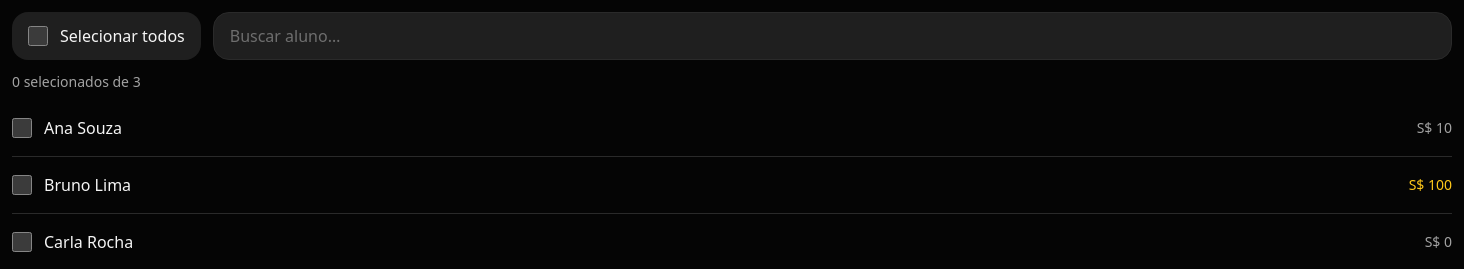
<SeletorAlunos> › filtra por nome sem perder a seleção
Click the checkbox labelled "Ana Souza S$ 10": x=22, y=128 left=12, top=118, right=32, bottom=138
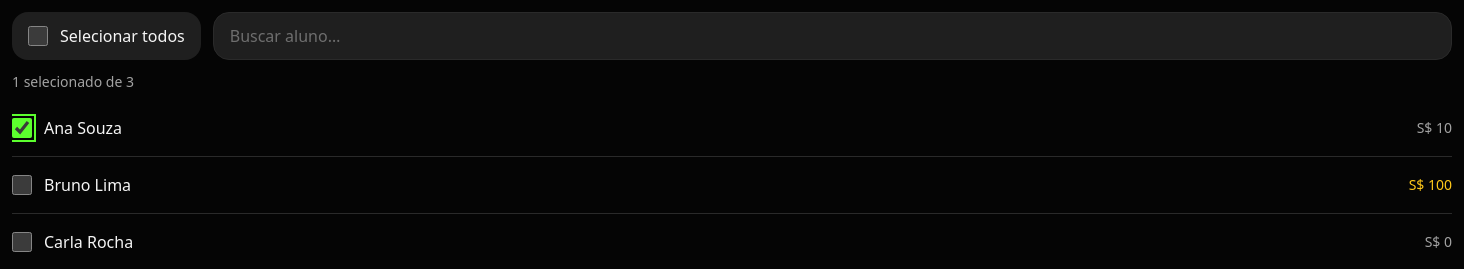
In the search field: x=832, y=36 left=213, top=12, right=1452, bottom=60, type "carla"
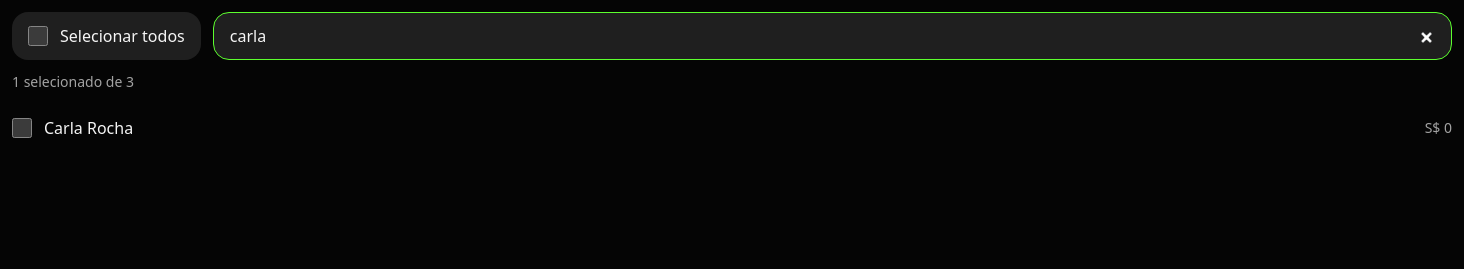
Expected: the checkbox labelled "Carla Rocha S$ 0" is shown, left=12, top=118, right=32, bottom=138
Result: the text "1 selecionado de 3" is shown at left=12, top=72, right=134, bottom=91
Result: the text "Ana Souza" is gone
